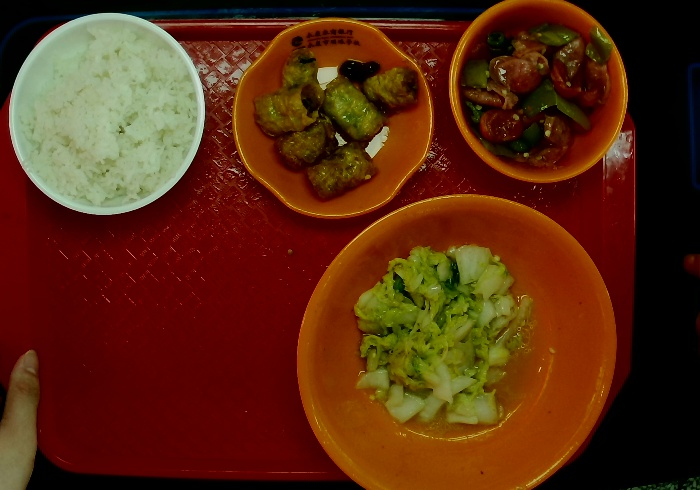YKMZ-Fan_Wan: (6, 11, 206, 217)
YKMZ-Ju_Se_Ao_Bian_Wan: (230, 15, 433, 220)
YKMZ-Ju_Se_Tang_Wan: (292, 192, 620, 490)
YKMZ-Ju_Se_Yuan_Wan: (446, 1, 631, 184)
